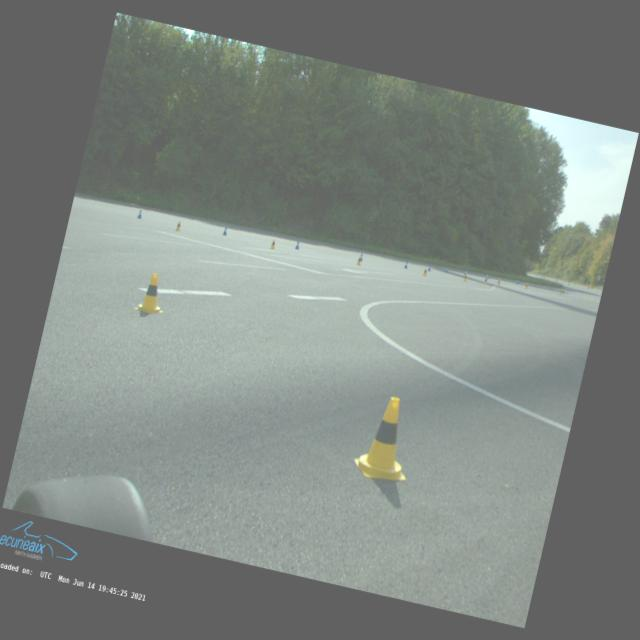blue_cone: (136, 208, 144, 218), (221, 226, 228, 236), (294, 241, 301, 249), (403, 261, 408, 269), (359, 252, 364, 260), (462, 269, 467, 275), (427, 264, 431, 271), (444, 266, 448, 272), (486, 273, 489, 278), (516, 279, 518, 284), (562, 288, 564, 293)
yellow_cone: (350, 392, 422, 485), (134, 270, 171, 316), (268, 238, 278, 250), (174, 220, 183, 232), (355, 254, 363, 266), (421, 267, 428, 276), (462, 273, 468, 282), (482, 276, 488, 284), (524, 282, 528, 289), (496, 278, 500, 285), (558, 288, 562, 294)
